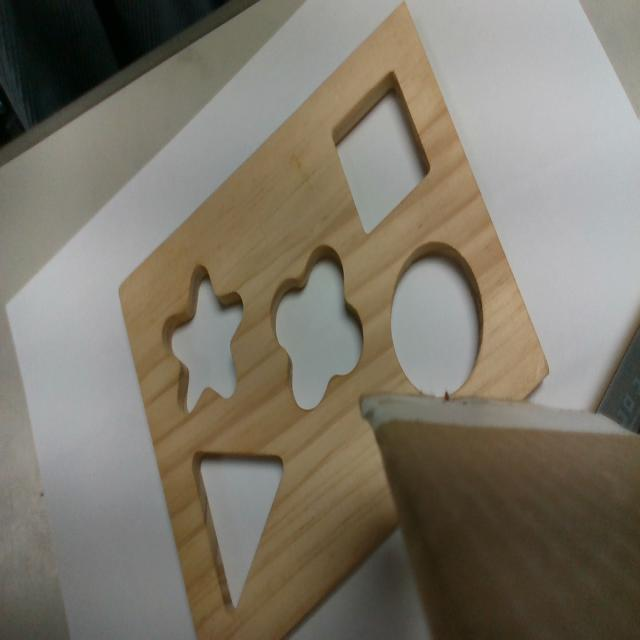circle: (391, 244, 484, 398)
flower: (268, 244, 365, 415)
square: (332, 67, 432, 237)
star: (160, 263, 243, 411)
triangle: (190, 450, 286, 612)
